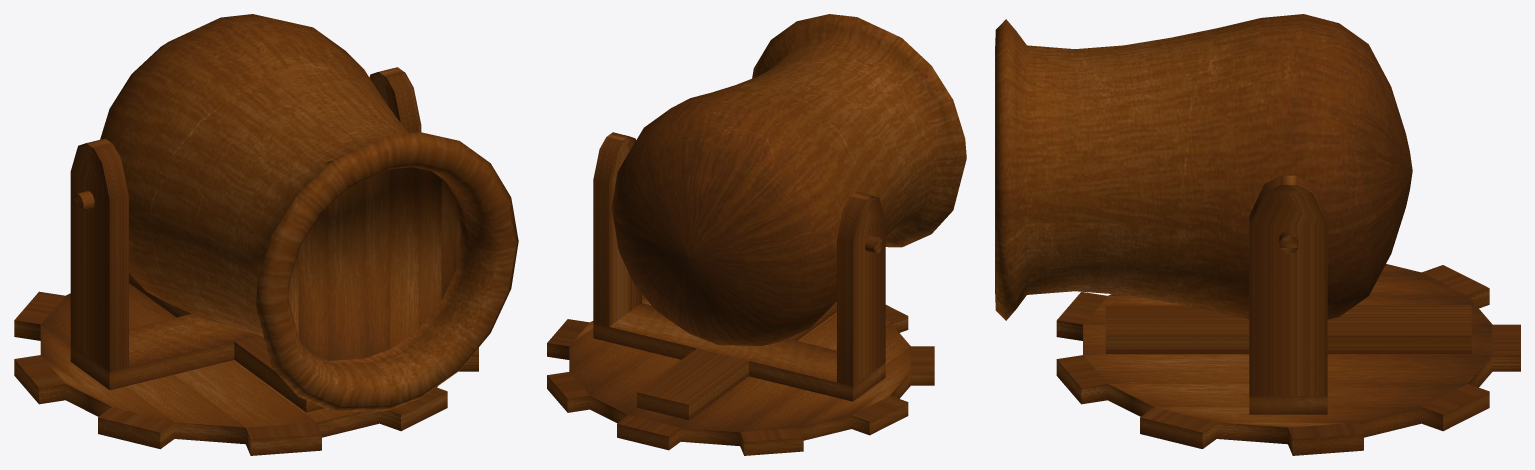
The model's file is Kanon.fbx.
3 views of the same model, side by side, from view 1: azimuth 30°, elevation 25°; view 2: azimuth 150°, elevation 25°; view 3: azimuth 270°, elevation 25° (orthographic). The views are drawn at different scales.
Parts seen in each view (by area): view 1: Kanon, Tandwiel, Houder; view 2: Kanon, Houder, Tandwiel; view 3: Kanon, Tandwiel, Houder.
Part boxes in pixels (left/top/right/bottom): Kanon: left=100, top=14, right=518, bottom=412; Tandwiel: left=14, top=283, right=478, bottom=455; Houder: left=70, top=67, right=421, bottom=412; Kanon: left=611, top=14, right=966, bottom=345; Houder: left=593, top=132, right=885, bottom=419; Tandwiel: left=547, top=294, right=934, bottom=455; Kanon: left=995, top=14, right=1412, bottom=320; Tandwiel: left=1056, top=264, right=1520, bottom=455; Houder: left=1105, top=175, right=1471, bottom=414.
Bounding box in the file's own units: 232 × 178 × 259.
1 material, 1 textured.
